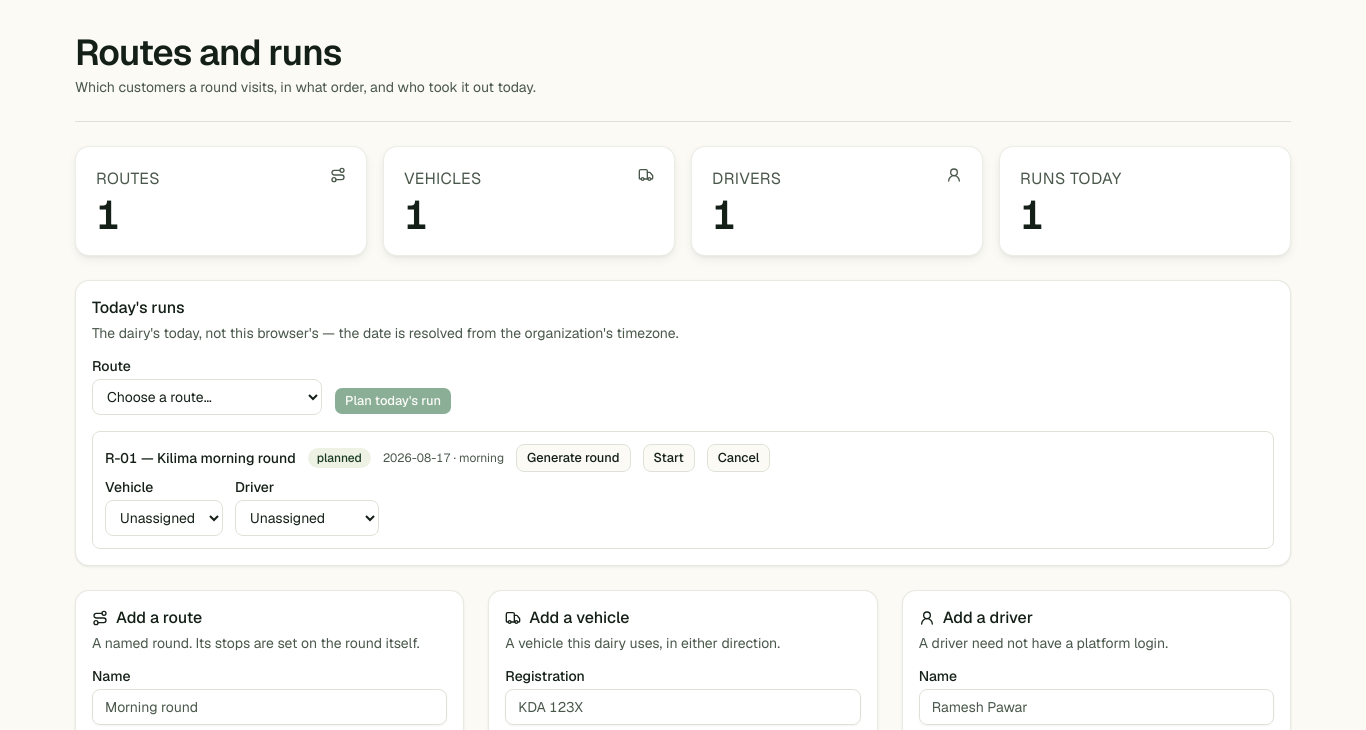
Scenario: routes and runs › says a second generation found the round already there
The width and height of the screenshot is (1366, 730).
Click the button "Generate round".
click(573, 458)  # box top-left (516, 444), bottom-right (631, 472)
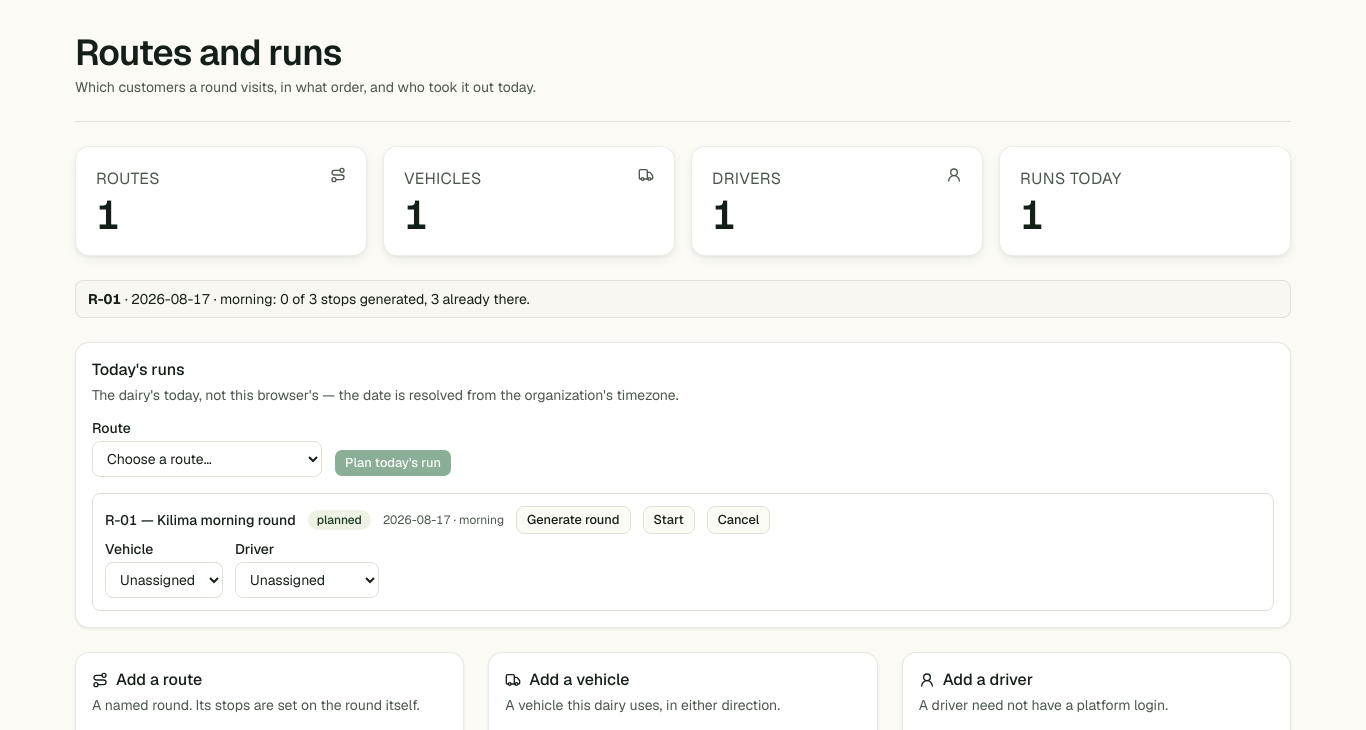
Now the text "3 already there" is shown, box top-left (424, 290), bottom-right (527, 308)
